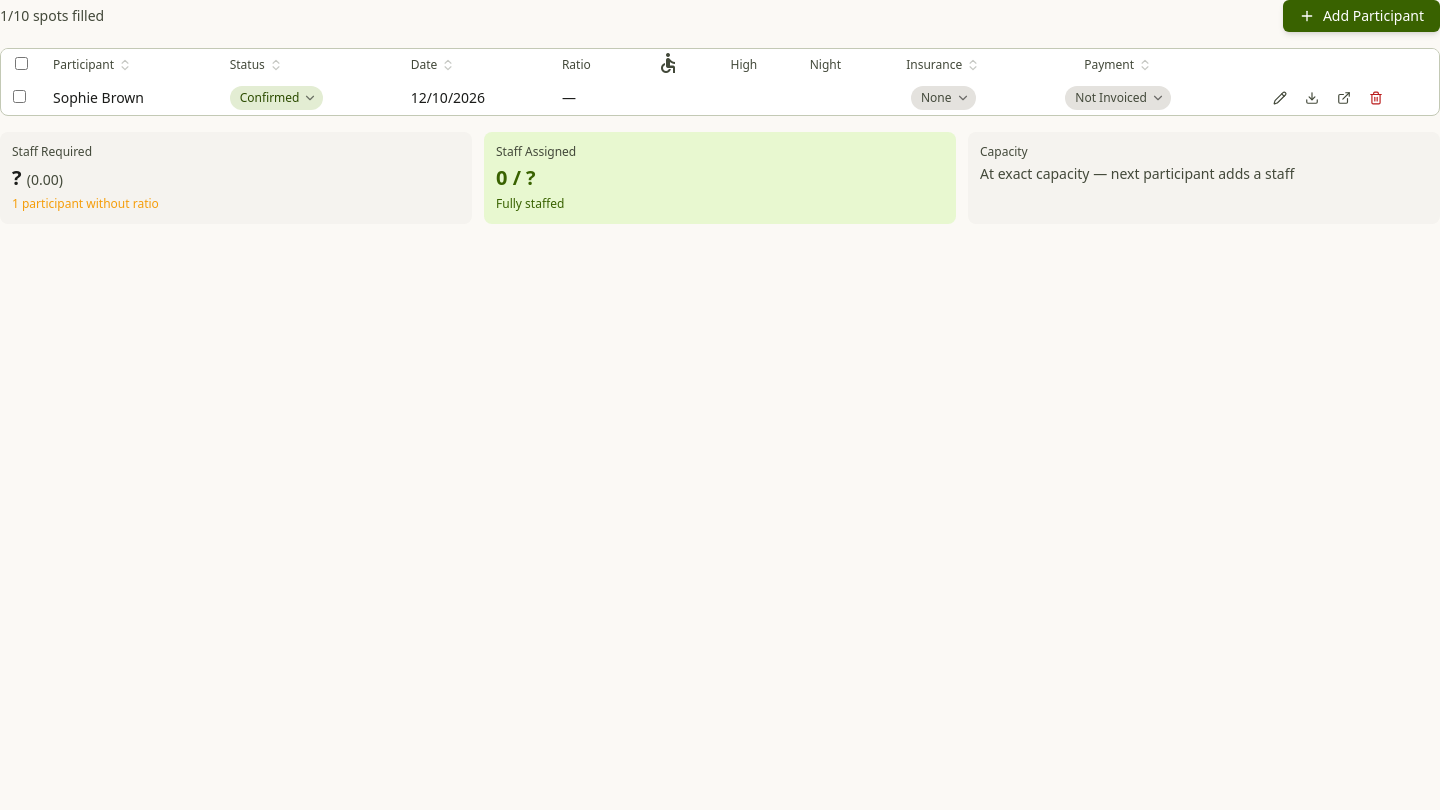
BookingsTab — support ratio override labels › uses the shared SUPPORT_RATIO_LABELS
What coordinates should you click on to do the following:
click the button "Add Participant"
I would click on:
 (1361, 16)
Its box is [1283,0,1439,32].
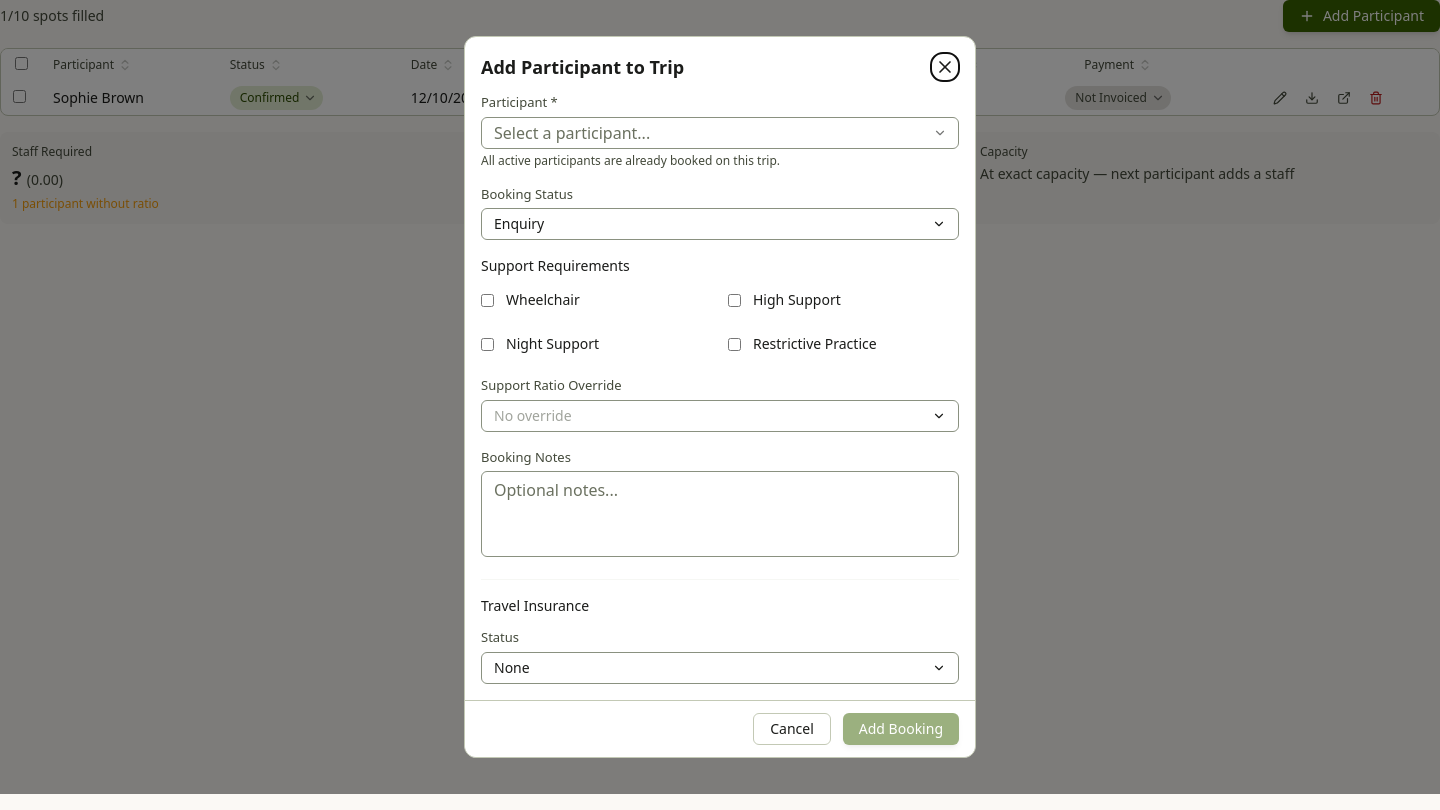
What coordinates should you click on to do the following:
click the button named "Support Ratio Override"
I would click on:
 (533, 415)
Its box is [481,400,959,432].
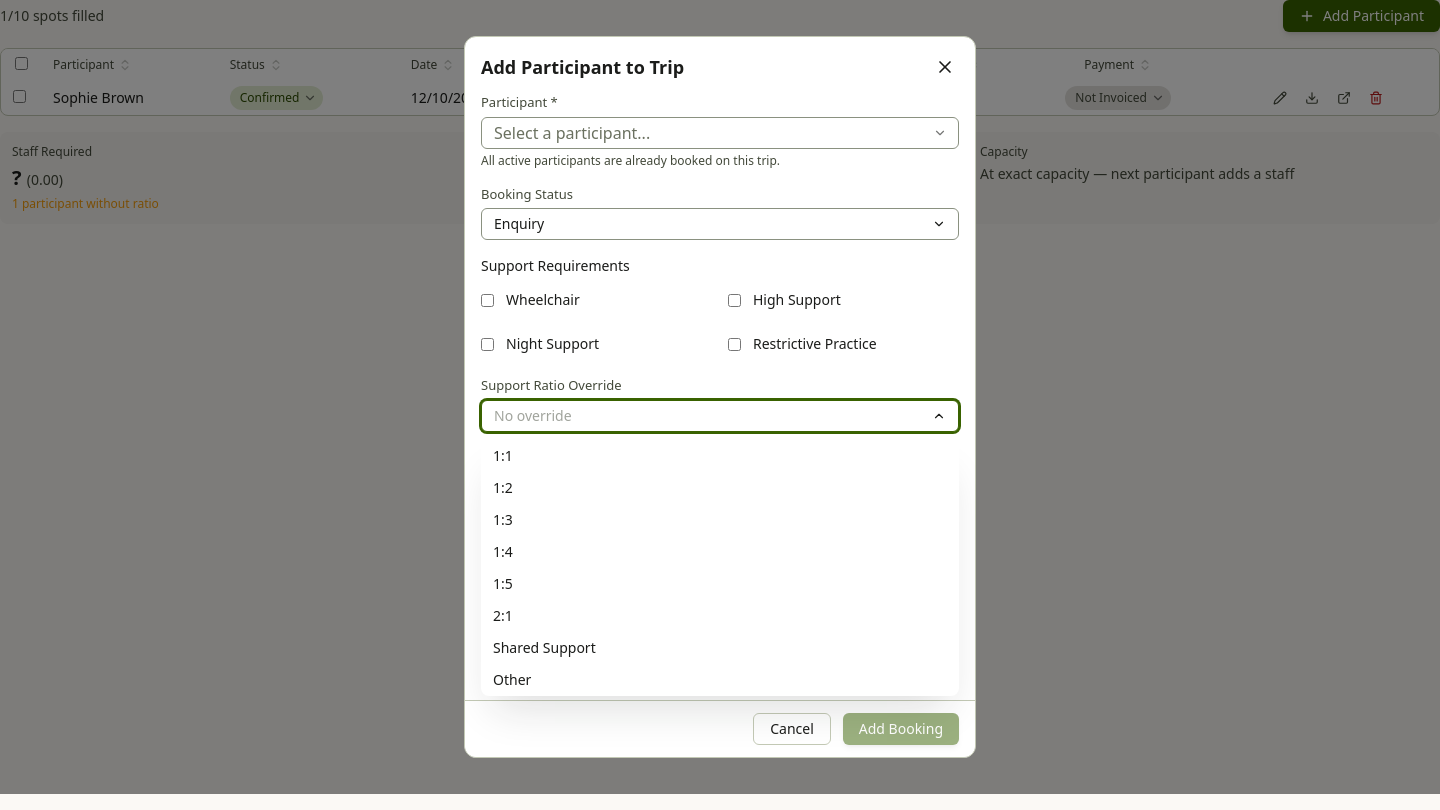
expect the option "Shared Support" is shown: met, box [493,638,596,657]
